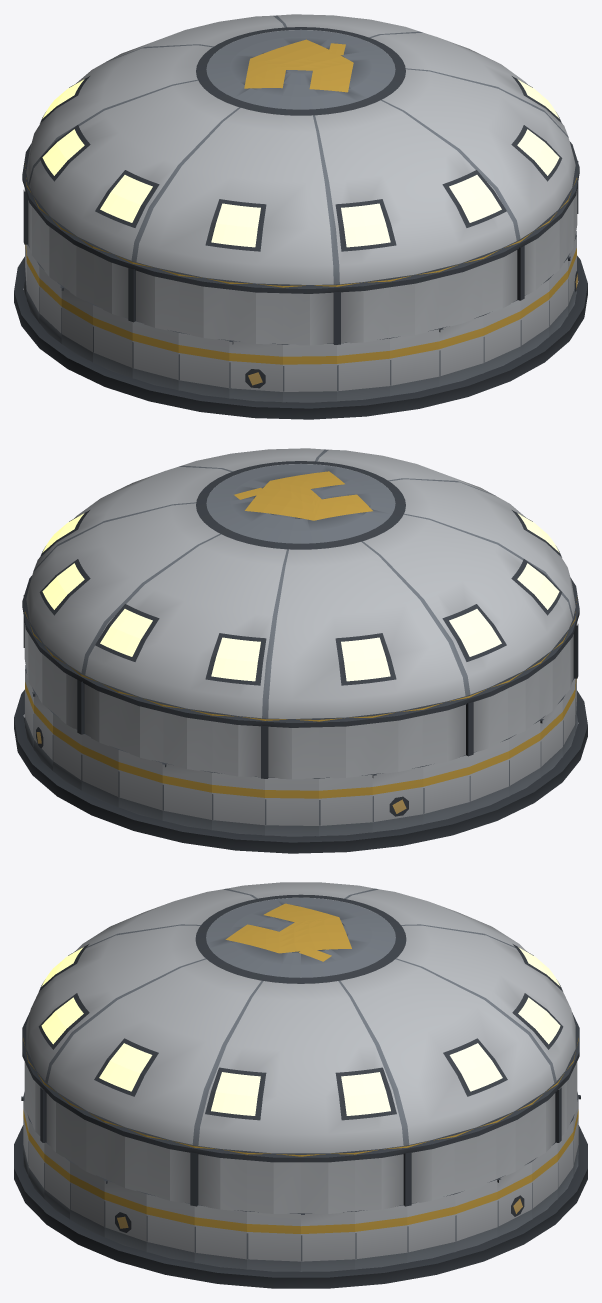
The model's file is habitat_s_far.glb.
The picture shows the model from 3 angles, top to bottom: view 1: azimuth 30°, elevation 25°; view 2: azimuth 150°, elevation 25°; view 3: azimuth 270°, elevation 25°; orthographic projection.
Visible parts, largest first — view 1: Roof, Base; view 2: Roof, Base; view 3: Roof, Base.
Boxes of the visible parts, bbox=[...] form: Roof: bbox=[22, 14, 579, 345]; Base: bbox=[14, 231, 587, 419]; Roof: bbox=[22, 448, 579, 779]; Base: bbox=[14, 665, 587, 853]; Roof: bbox=[22, 882, 579, 1213]; Base: bbox=[14, 1092, 587, 1288].
Bounding box in the file's own units: 11.74 × 5.34 × 11.74.
